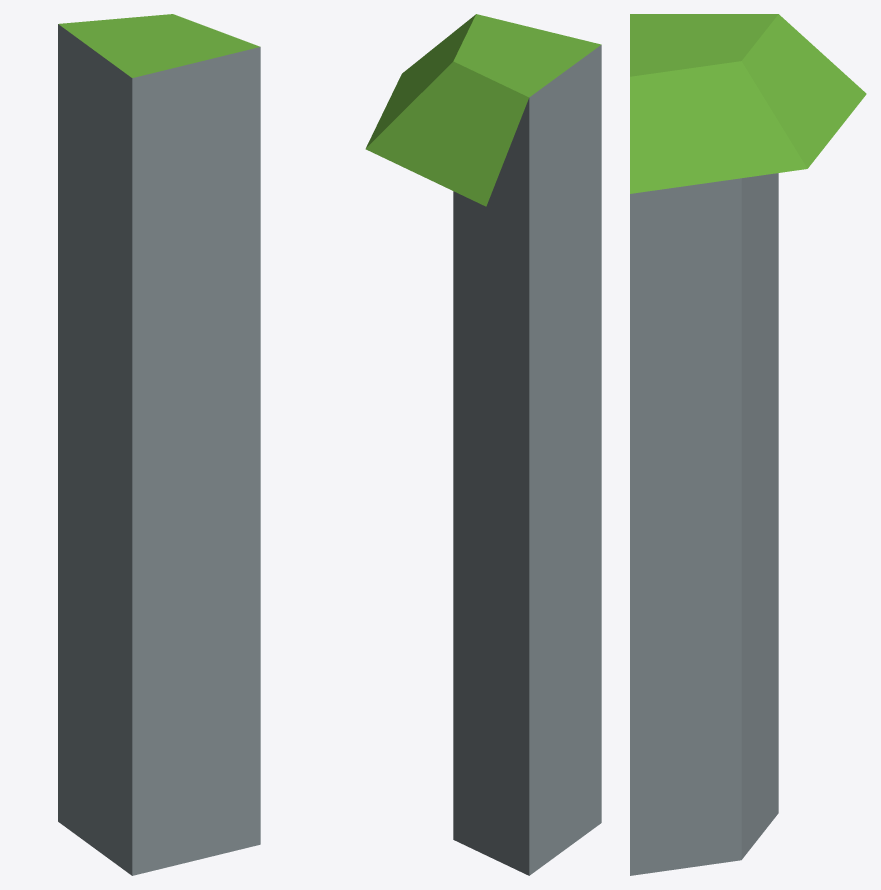
The model's file is cliff_cornerTop_stone.glb.
3 views of the same model, side by side, from view 1: azimuth 30°, elevation 25°; view 2: azimuth 150°, elevation 25°; view 3: azimuth 270°, elevation 25° (orthographic). The views are drawn at different scales.
Visible parts, largest first — view 1: cliff_cornerTop_stone; view 2: cliff_cornerTop_stone; view 3: cliff_cornerTop_stone.
Part boxes in pixels (bbox=[...]): cliff_cornerTop_stone: bbox=[58, 14, 260, 875]; cliff_cornerTop_stone: bbox=[365, 14, 601, 875]; cliff_cornerTop_stone: bbox=[630, 14, 866, 875].
Size of the model in its own units: 0.2685 by 1 by 0.2685.
